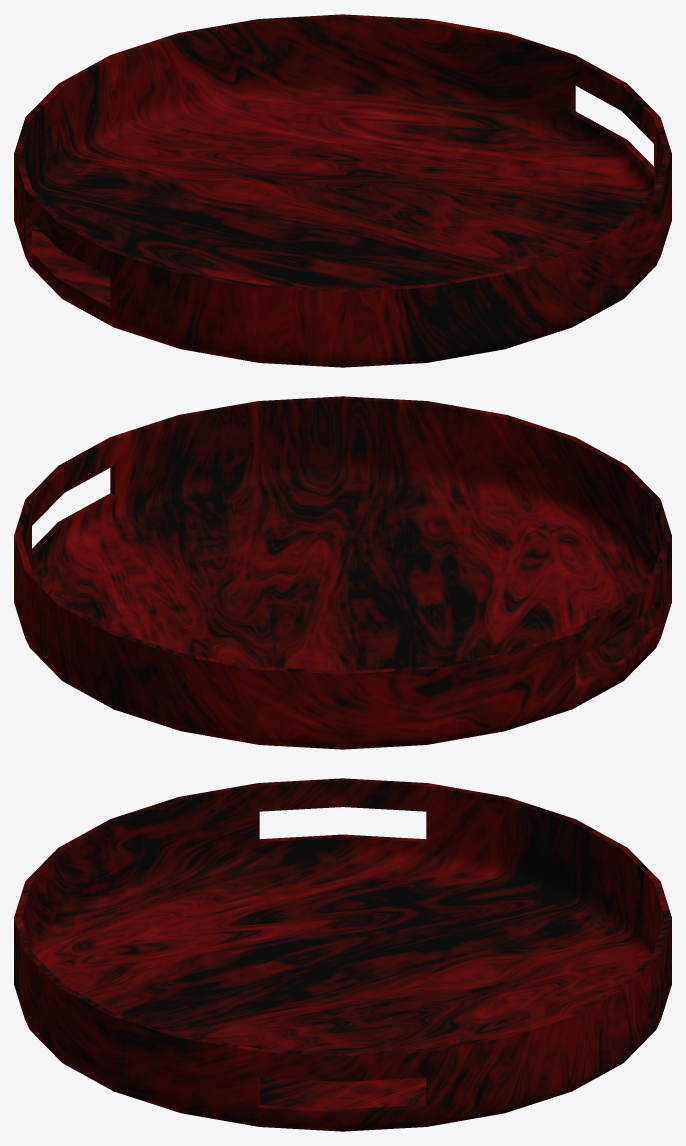
File: TrayVirginia.fbx
3 renders of one model, top to bottom at view 1: azimuth 30°, elevation 25°; view 2: azimuth 150°, elevation 25°; view 3: azimuth 270°, elevation 25°, orthographic.
Visible parts, largest first — view 1: tray; view 2: tray; view 3: tray.
Boxes of the visible parts, x1,y1,x2,y2 form: tray: [14, 14, 671, 367]; tray: [14, 396, 671, 749]; tray: [14, 778, 671, 1131].
Bounding box in the file's own units: 9.6 × 1.32 × 9.6.
Materials: 1 (1 with a texture image).
